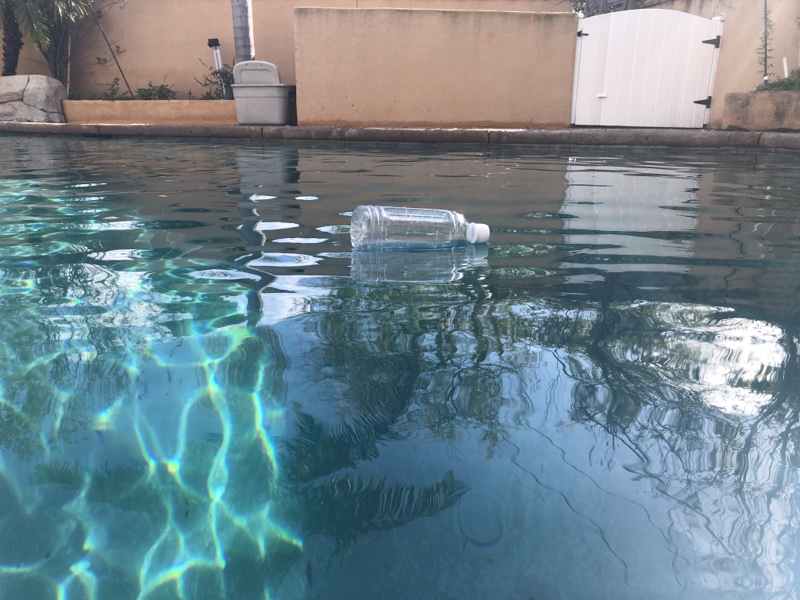Plastic Bottle: (347, 202, 493, 257)
